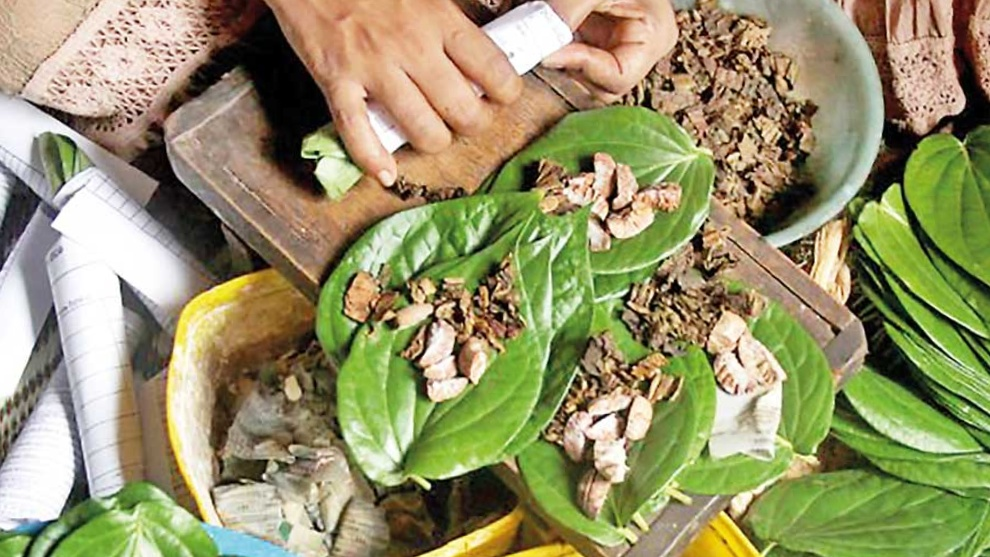bulathwita: (310, 182, 605, 491), (509, 277, 720, 543), (491, 103, 721, 275), (897, 124, 990, 321)
